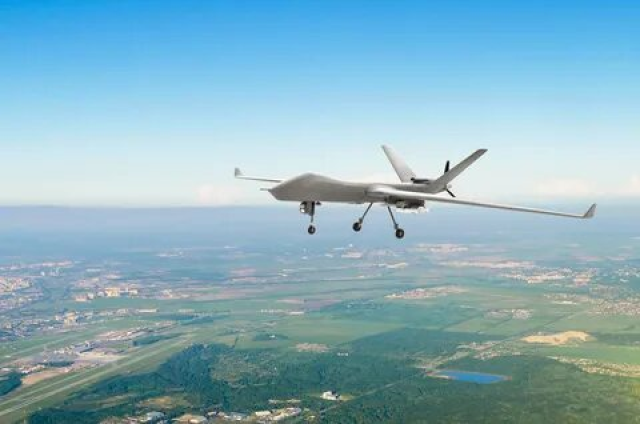military drone: (233, 144, 596, 239)
